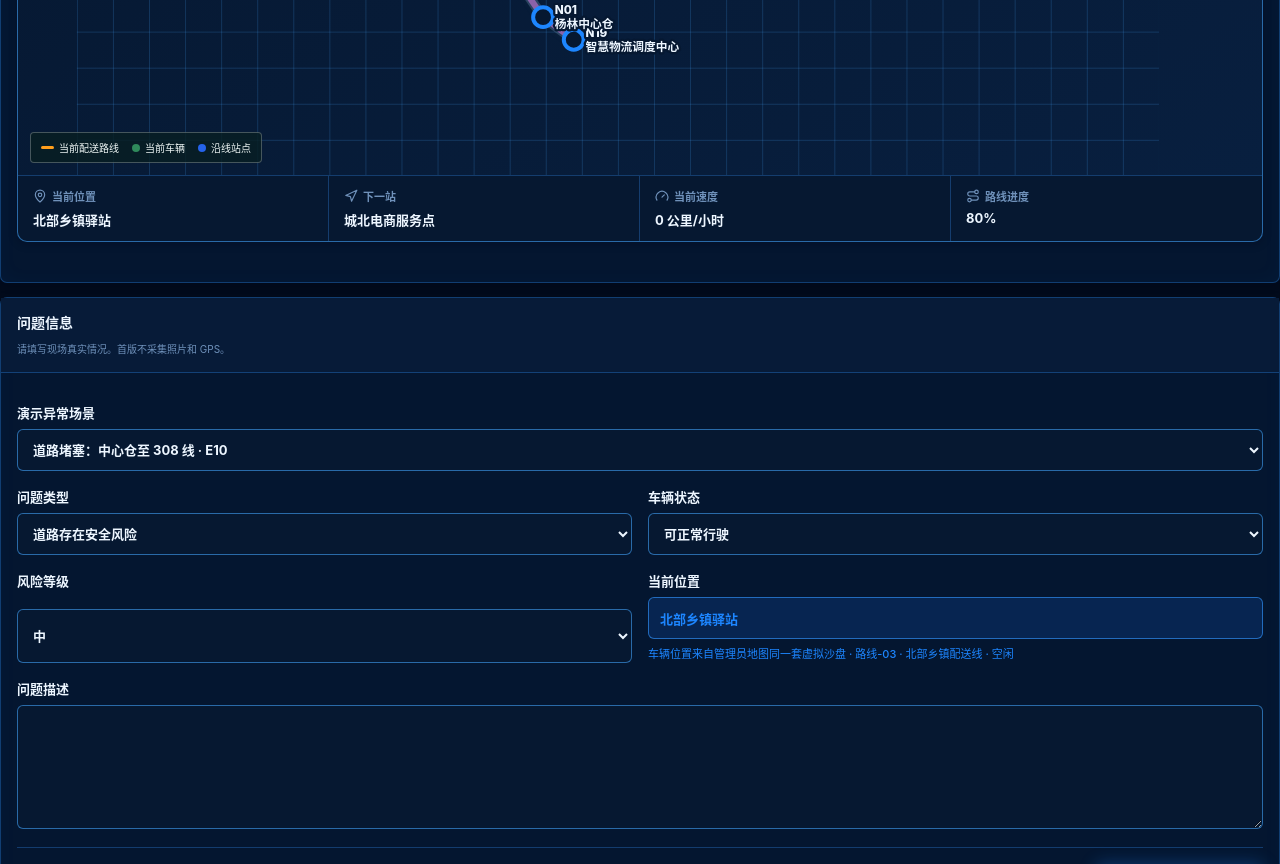
Test case: report issue page › blocks an edge on route 03 so recalculation produces a real detour
The width and height of the screenshot is (1280, 864).
(page scrolled)
Select "道路堵塞：中心仓至 308 线 · E10" in the dropdown labelled "演示异常场景" at (640, 450), box 17,429 -> 1263,471
(page scrolled)
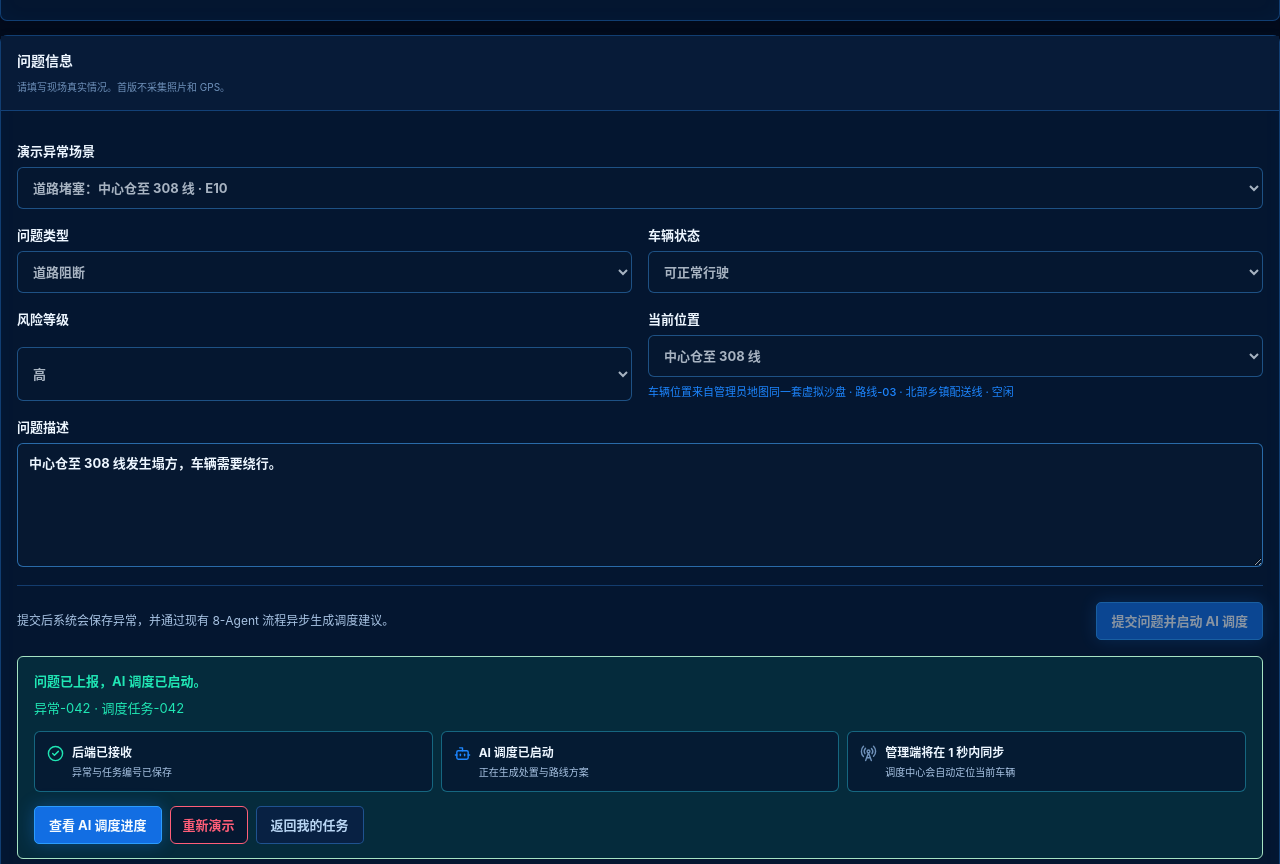
Expected: the dropdown with id "report-location" shows "中心仓至 308 线", 648,335 -> 1263,377
Expected: the text box labelled "问题描述" holds "中心仓至 308 线发生塌方，车辆需要绕行。", 17,443 -> 1263,567
